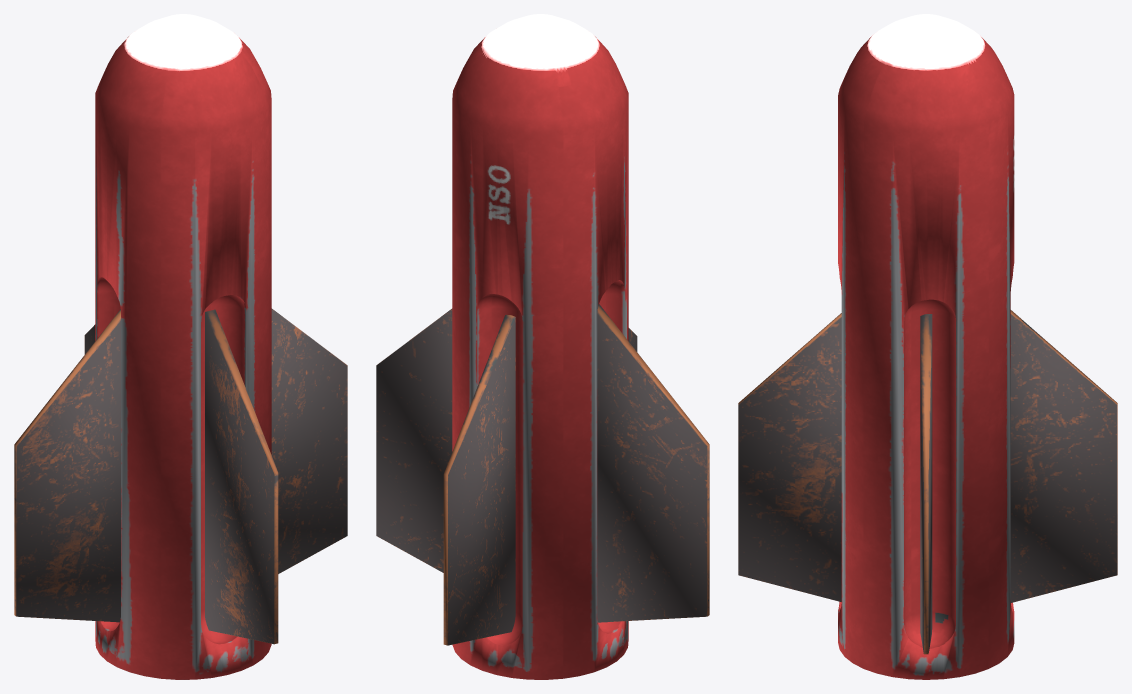
3 renders of one model, left to right at view 1: azimuth 30°, elevation 25°; view 2: azimuth 150°, elevation 25°; view 3: azimuth 270°, elevation 25°, orthographic.
Parts seen in each view (by area): view 1: missile; view 2: missile; view 3: missile.
Boxes of the visible parts, left/top/right/bottom form: missile: left=14, top=14, right=347, bottom=679; missile: left=376, top=14, right=709, bottom=679; missile: left=738, top=14, right=1117, bottom=679.
Size of the model in its own units: 69.35 by 124 by 68.75.
1 material, 1 textured.
